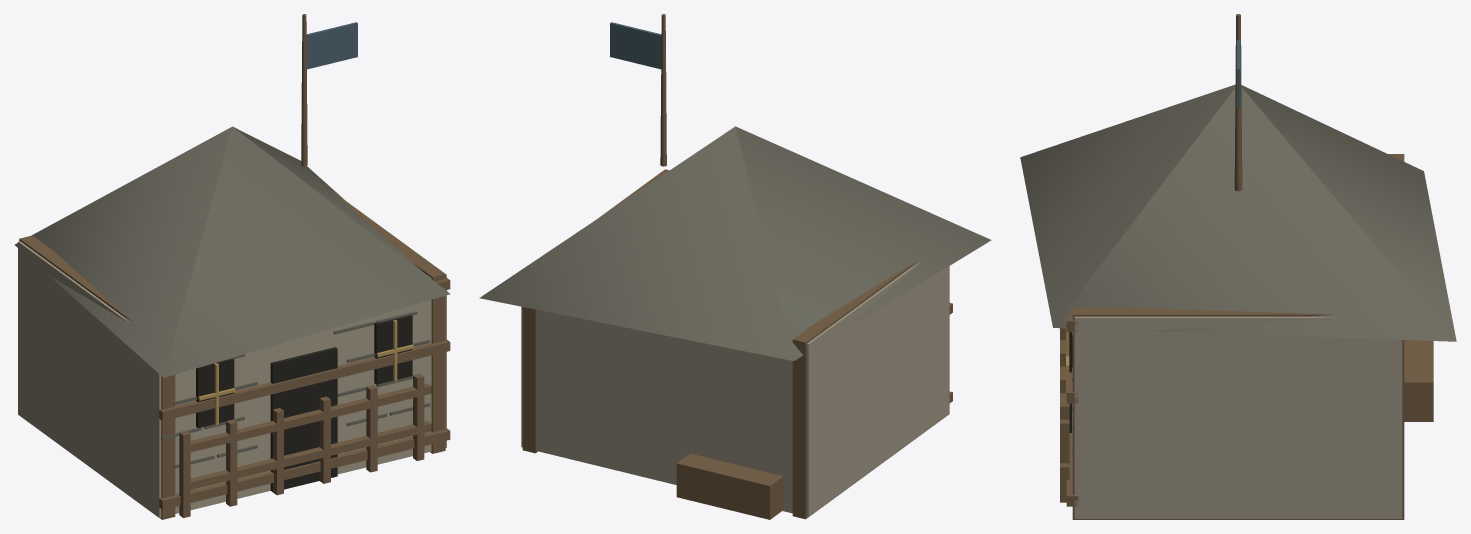
Rendered from b-camel-english.glb.
3 renders of one model, left to right at view 1: azimuth 30°, elevation 25°; view 2: azimuth 150°, elevation 25°; view 3: azimuth 270°, elevation 25°, orthographic. The views are drawn at different scales.
Visible parts, largest first — view 1: Structure; view 2: Structure; view 3: Structure.
Boxes of the visible parts, bbox=[...] form: Structure: bbox=[14, 14, 450, 519]; Structure: bbox=[479, 14, 991, 519]; Structure: bbox=[1020, 14, 1456, 519].
Bounding box in the file's own units: 4.53 × 5.33 × 4.53.
